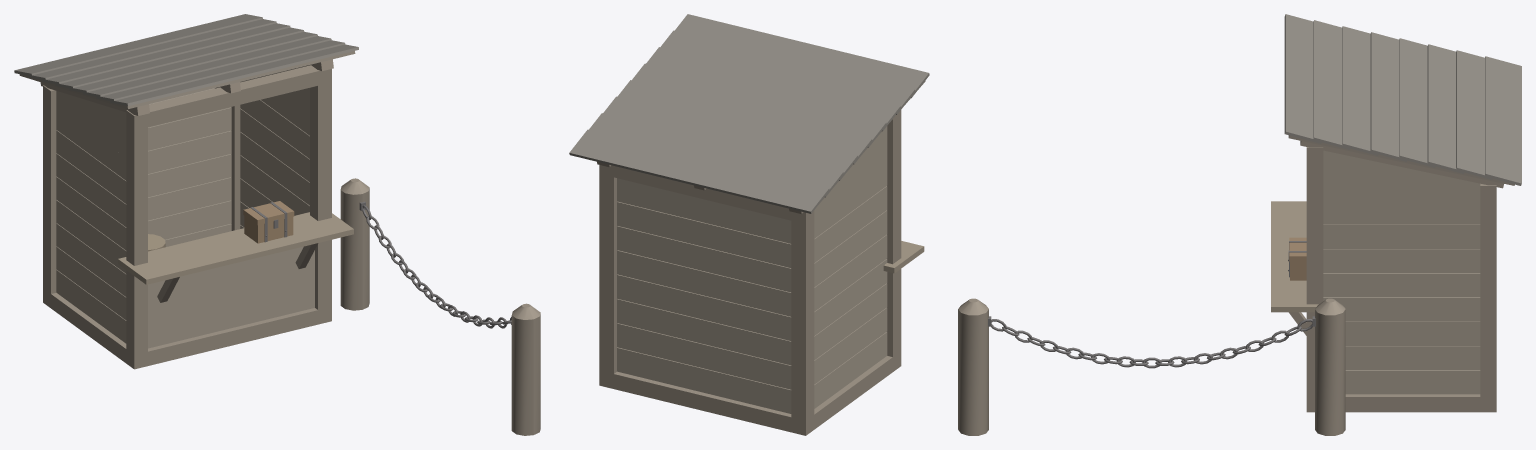
The model's file is toll-booth.glb.
The picture shows the model from 3 angles, left to right: view 1: azimuth 30°, elevation 25°; view 2: azimuth 150°, elevation 25°; view 3: azimuth 270°, elevation 25°; orthographic projection. The views are drawn at different scales.
Visible parts, largest first — view 1: barrier-post-01; view 2: barrier-post-01; view 3: barrier-post-01.
Boxes of the visible parts, box(x1,y1,x2,y2) form: barrier-post-01: box(14, 14, 540, 435); barrier-post-01: box(569, 14, 929, 435); barrier-post-01: box(958, 14, 1521, 435).
Bounding box in the file's own units: 2.64 × 2.68 × 4.74.
